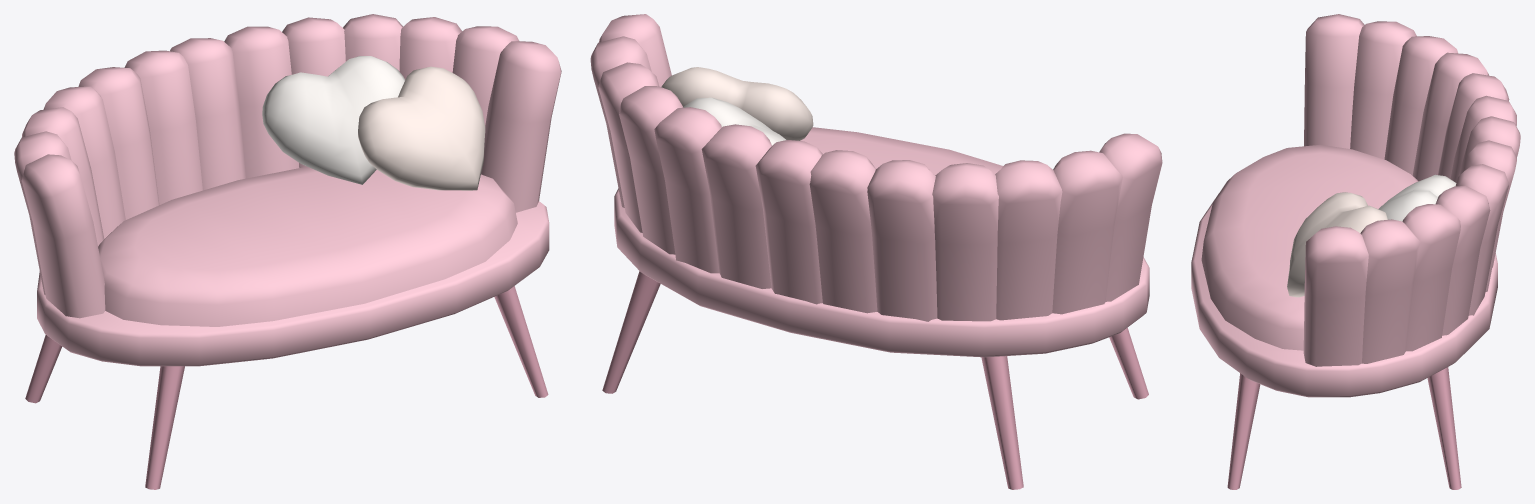
File: sofa_K.fbx
3 views of the same model, side by side, from view 1: azimuth 30°, elevation 25°; view 2: azimuth 150°, elevation 25°; view 3: azimuth 270°, elevation 25° (orthographic). The views are drawn at different scales.
Parts seen in each view (by area): view 1: polySurface9.001, polySurface1, polySurface2, Pillow_Heart_01.001, Pillow_Heart_01, polySurface3.001; view 2: polySurface9.001, polySurface2, polySurface3.001, Pillow_Heart_01.001, polySurface1, Pillow_Heart_01; view 3: polySurface9.001, polySurface1, polySurface2, polySurface3.001, Pillow_Heart_01.001, Pillow_Heart_01.
Part boxes in pixels (box(x1,y1,x2,y2)): polySurface9.001: box(14, 14, 561, 318); polySurface1: box(98, 166, 517, 326); polySurface2: box(37, 201, 549, 366); Pillow_Heart_01.001: box(358, 66, 485, 190); Pillow_Heart_01: box(262, 56, 405, 184); polySurface3.001: box(25, 286, 548, 489); polySurface9.001: box(590, 14, 1162, 321); polySurface2: box(614, 188, 1149, 357); polySurface3.001: box(602, 271, 1148, 489); Pillow_Heart_01.001: box(661, 67, 813, 140); polySurface1: box(800, 127, 1003, 175); Pillow_Heart_01: box(683, 97, 785, 145); polySurface9.001: box(1303, 14, 1520, 366); polySurface1: box(1201, 144, 1418, 350); polySurface2: box(1191, 193, 1497, 397); polySurface3.001: box(1227, 367, 1461, 489); Pillow_Heart_01.001: box(1287, 192, 1387, 297); Pillow_Heart_01: box(1378, 174, 1456, 221).
Size of the model in its own units: 160 by 88.16 by 94.9.
